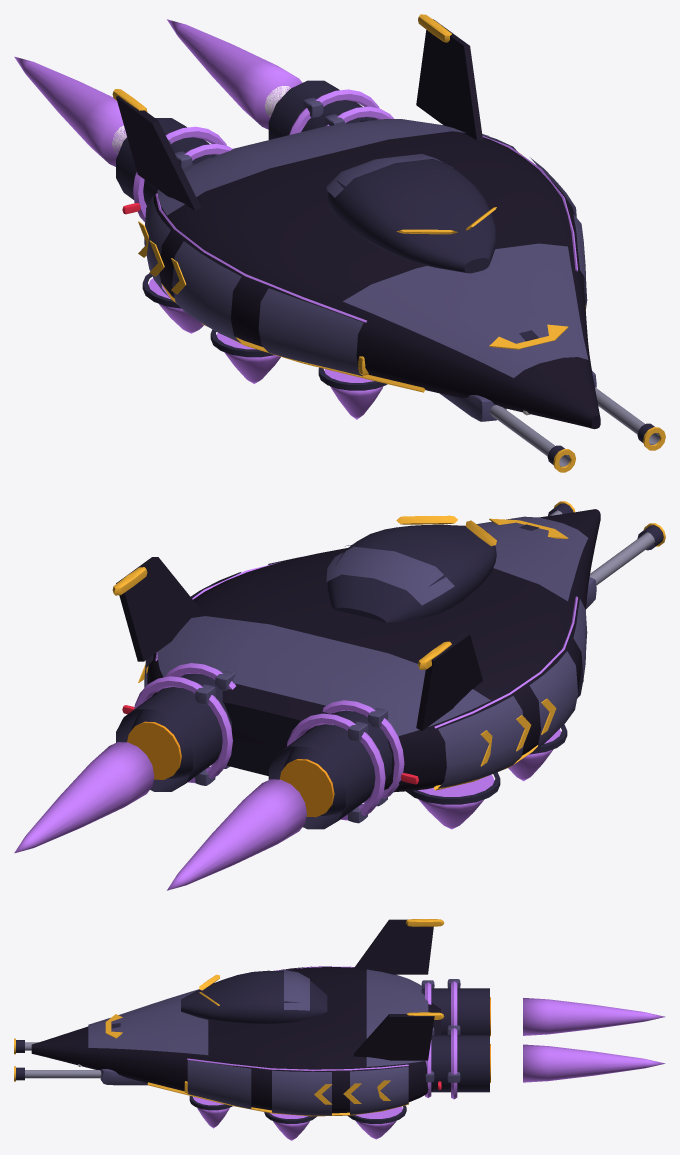
File: skimmer_a.glb
3 views of the same model, one above another, from view 1: azimuth 30°, elevation 25°; view 2: azimuth 150°, elevation 25°; view 3: azimuth 270°, elevation 25° (orthographic). The views are drawn at different scales.
Parts seen in each view (by area): view 1: hull, carapace1, bridge, carapace0, cheekL2, plumeR_flame, finR, plumeL_flame, cheekL1, finL, driveTubeR, driveTubeL (+12 smaller); view 2: hull, carapace0, bridge, plumeL_flame, plumeR_flame, carapace1, driveTubeL, cheekL0, finR, driveTubeR, bridgeFrame, finL (+16 smaller); view 3: hull, bridge, carapace1, plumeR_flame, plumeL_flame, finL, driveTubeR, carapace0, finR, cheekR1, cheekR2, cheekR0 (+11 smaller).
Part boxes in pixels (x1,y1,x2,y2): hull: (153,131,600,429); carapace1: (343,243,588,377); bridge: (327,159,496,273); carapace0: (157,119,489,215); cheekL2: (258,288,363,376); plumeR_flame: (167,19,302,129); finR: (416,19,482,140); plumeL_flame: (14,56,126,166); cheekL1: (172,241,241,342); finL: (116,96,201,210); driveTubeR: (268,80,377,139); driveTubeL: (116,118,217,205); hull: (147,509,600,792); carapace0: (157,616,490,736); bridge: (327,524,496,622); plumeL_flame: (167,779,306,890); plumeR_flame: (14,742,154,853); carapace1: (345,516,588,601); driveTubeL: (268,710,392,829); cheekL0: (438,695,523,788); finR: (116,557,201,661); driveTubeR: (116,673,231,791); bridgeFrame: (326,546,454,605); finL: (416,631,482,730); hull: (31,967,440,1113); bridge: (181,970,327,1024); carapace1: (88,989,208,1055); plumeR_flame: (523,1044,665,1082); plumeL_flame: (523,998,665,1035); finL: (354,919,433,974); driveTubeR: (431,1035,489,1092); carapace0: (366,969,428,1066); finR: (353,1014,434,1060); cheekR1: (272,1070,331,1115); cheekR2: (187,1060,251,1108); cheekR0: (350,1066,408,1114).
Bounding box in the file's own units: 4.13 × 2.26 × 10.03.
